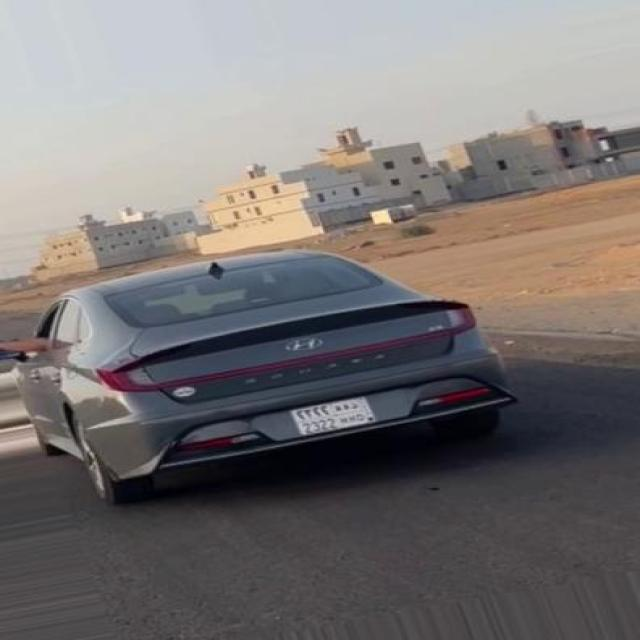Car-plate: (278, 388, 384, 445)
